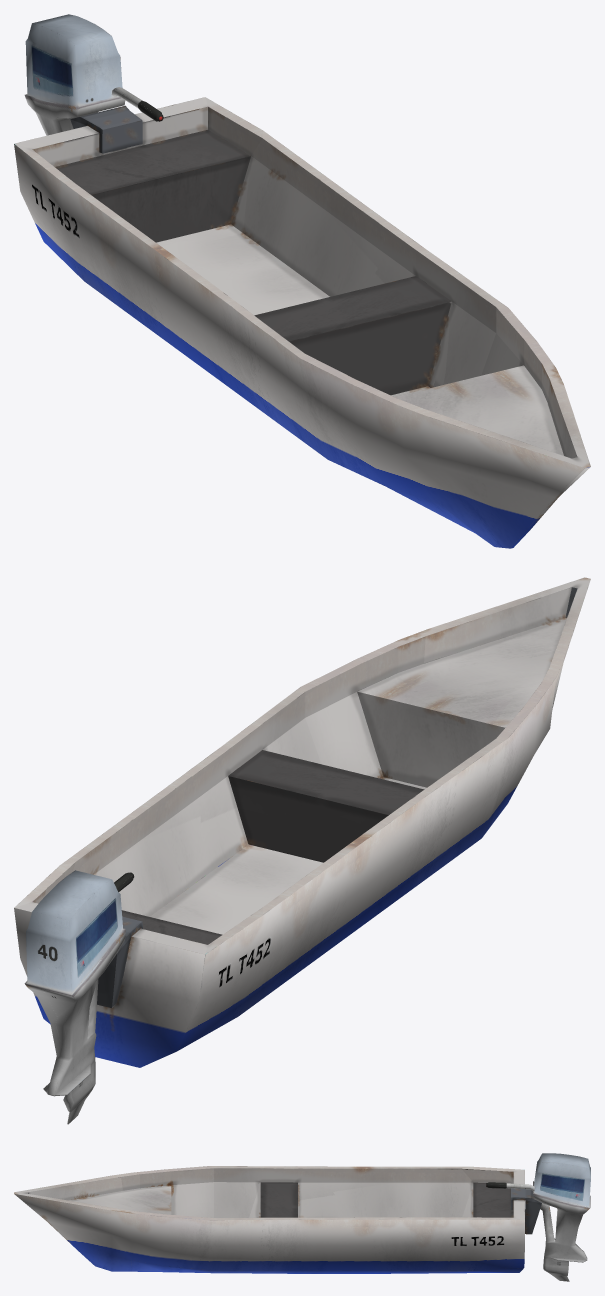
File: boat.fbx
The picture shows the model from 3 angles, top to bottom: view 1: azimuth 30°, elevation 25°; view 2: azimuth 150°, elevation 25°; view 3: azimuth 270°, elevation 25°; orthographic projection. The views are drawn at different scales.
Parts seen in each view (by area): view 1: Cube, Cube.001; view 2: Cube, Cube.001; view 3: Cube, Cube.001.
Part boxes in pixels (x1,y1,x2,y2): Cube: (14,97,590,548); Cube.001: (24,14,163,135); Cube: (14,577,590,1067); Cube.001: (24,870,134,1124); Cube: (14,1166,541,1273); Cube.001: (486,1153,590,1281).
Bounding box in the file's own units: 832 × 884 × 3741.
2 materials, 2 textured.
